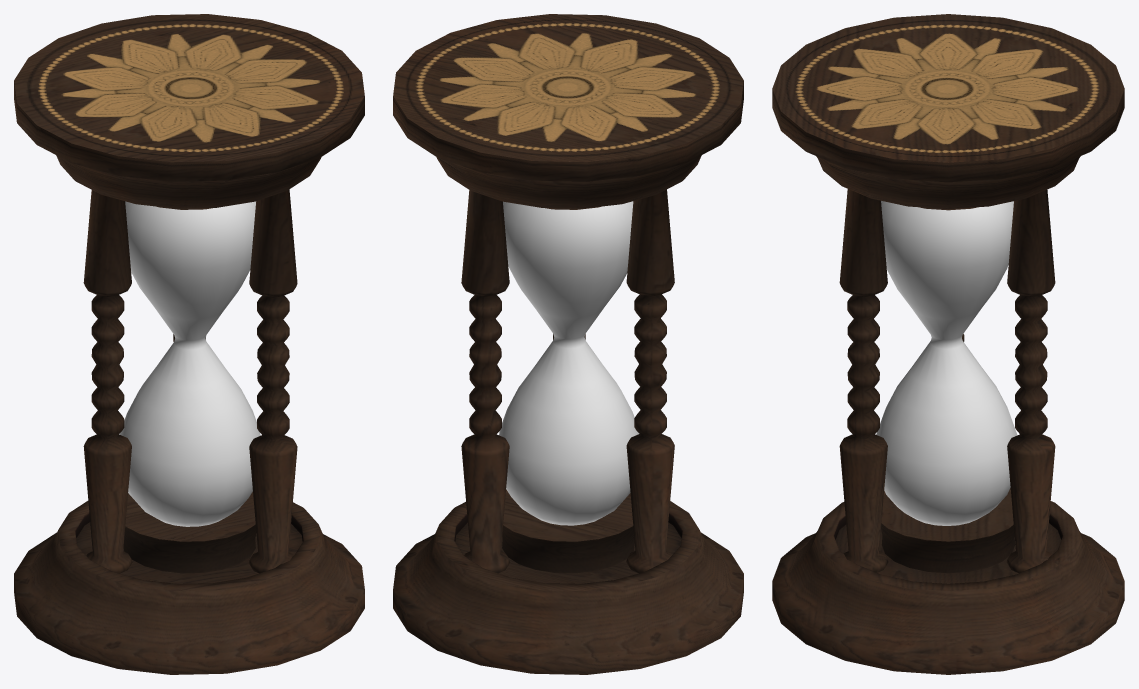
File: hourglass_01.fbx
The picture shows the model from 3 angles, left to right: view 1: azimuth 30°, elevation 25°; view 2: azimuth 150°, elevation 25°; view 3: azimuth 270°, elevation 25°; orthographic projection.
Parts seen in each view (by area): view 1: hourglass_01; view 2: hourglass_01; view 3: hourglass_01.
Boxes of the visible parts, bbox=[...] form: hourglass_01: bbox=[14, 14, 364, 674]; hourglass_01: bbox=[393, 14, 743, 674]; hourglass_01: bbox=[772, 14, 1124, 674].
Bounding box in the file's own units: 32.54 × 52.19 × 32.54.
